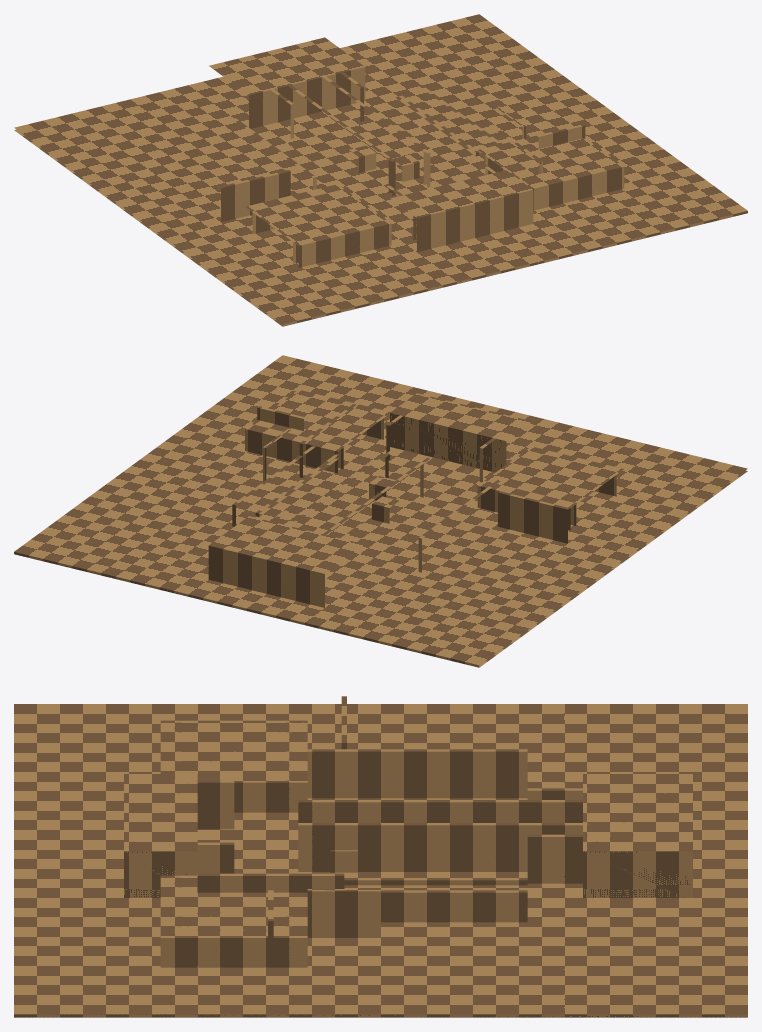
Rendered from dust2_like.gltf.
3 views of the same model, one above another, from view 1: azimuth 30°, elevation 25°; view 2: azimuth 150°, elevation 25°; view 3: azimuth 270°, elevation 25° (orthographic). The views are drawn at different scales.
Size of the model in its own units: 40 by 3.5 by 40.
Materials: 1 (1 with a texture image).
